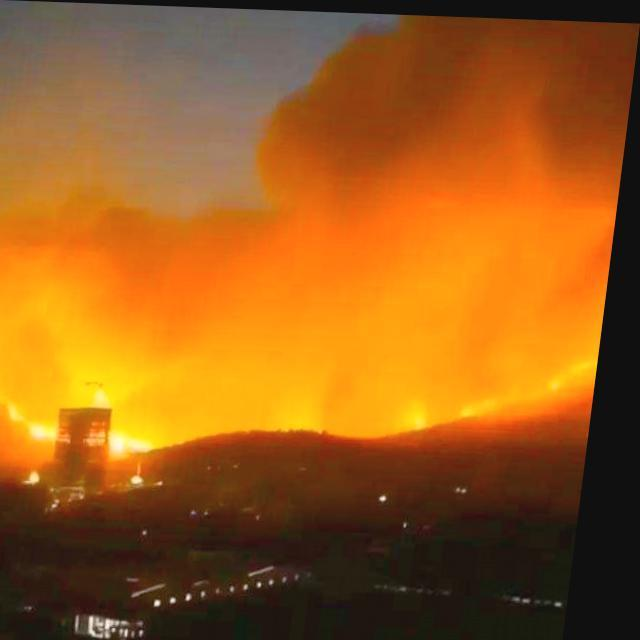Fire: (296, 330, 604, 432), (0, 343, 177, 457)
